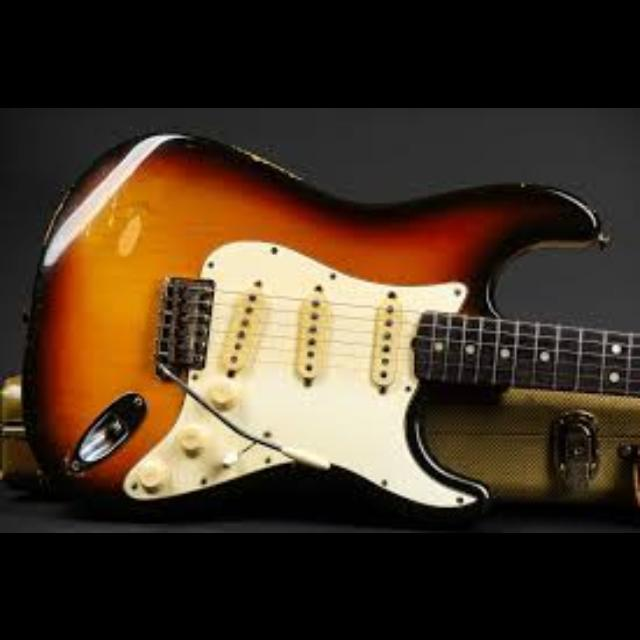Electric-Guitar: (17, 131, 637, 533)
